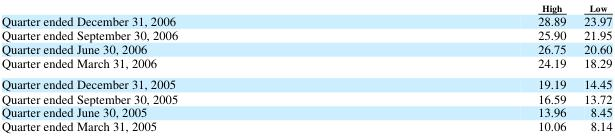table: (0, 0, 611, 133)
table column: (0, 0, 357, 133), (357, 0, 574, 133), (574, 0, 611, 133)
table column header: (0, 0, 611, 12)
table row: (0, 72, 611, 90), (0, 55, 611, 72), (0, 12, 611, 27), (0, 118, 611, 133), (0, 27, 611, 41), (0, 41, 611, 55), (0, 90, 611, 104), (0, 104, 611, 118), (0, 0, 611, 12)
